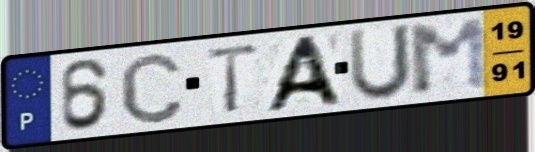6: (58, 55, 110, 132)
A: (259, 32, 347, 114)
C: (117, 49, 187, 126)
M: (405, 15, 494, 99)
T: (203, 41, 264, 117)
U: (346, 21, 416, 104)
